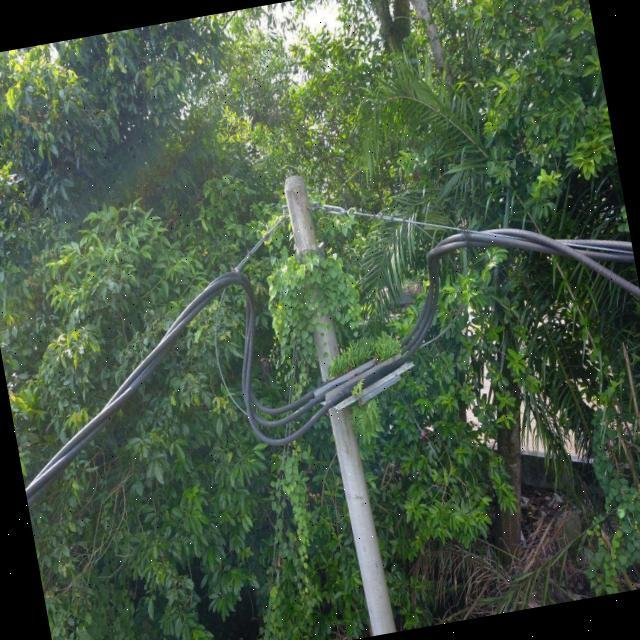critical vegetation: (243, 197, 372, 348)
